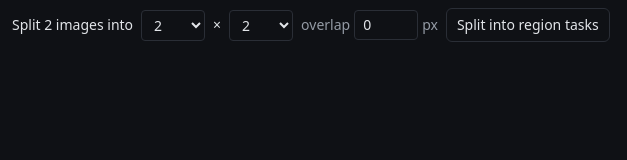
Test: SplitControl › splits each selected image and lists the refusals
Select "3" in the dropdown named "rows". click: (173, 25)
box: x1=141 y1=10 x2=205 y2=40
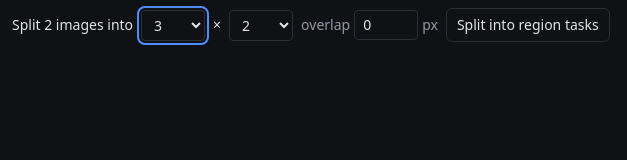
Type "8" into the number field labelled "overlap". click: (386, 25)
box: x1=354 y1=10 x2=418 y2=40
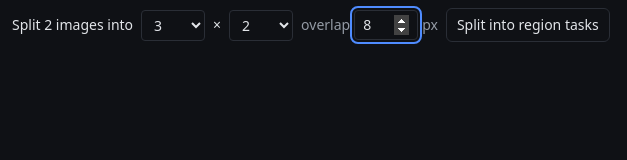
Click the button "Split into region tasks". click: (528, 25)
box: x1=446 y1=8 x2=610 y2=42
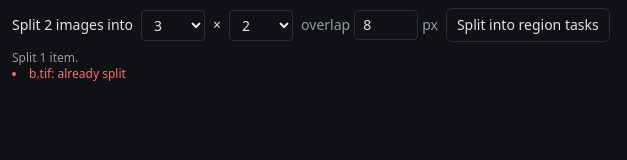
Check: the message shows "Split 1 item.", box x1=12 y1=49 x2=78 y2=66
Check: the list item "b.tif: already split" is shown, box x1=29 y1=65 x2=126 y2=82
